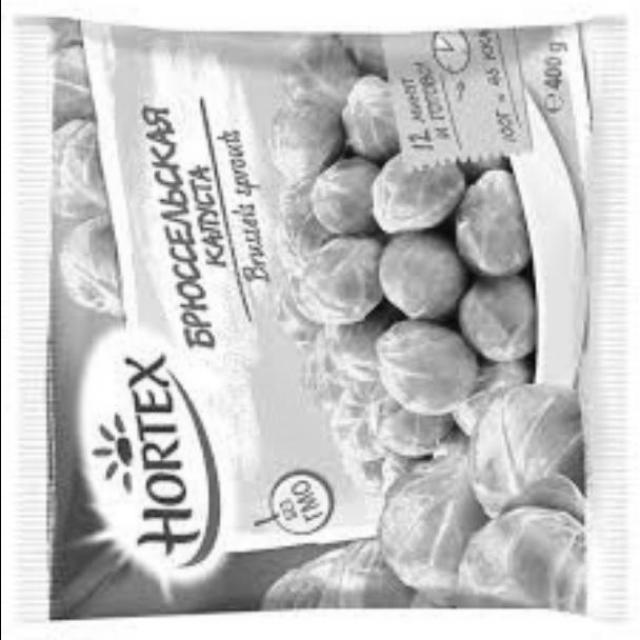bap cai ngot: (274, 54, 553, 500), (269, 391, 594, 617), (41, 204, 123, 324), (45, 57, 107, 198)
